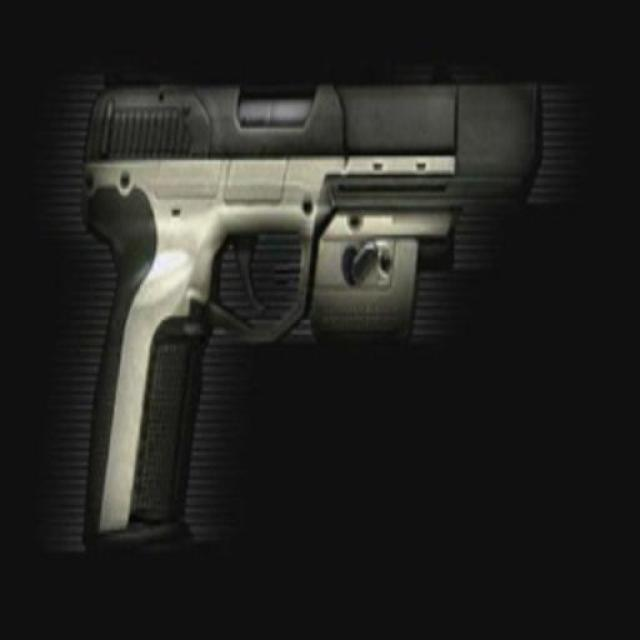pistol: (75, 56, 545, 565)
